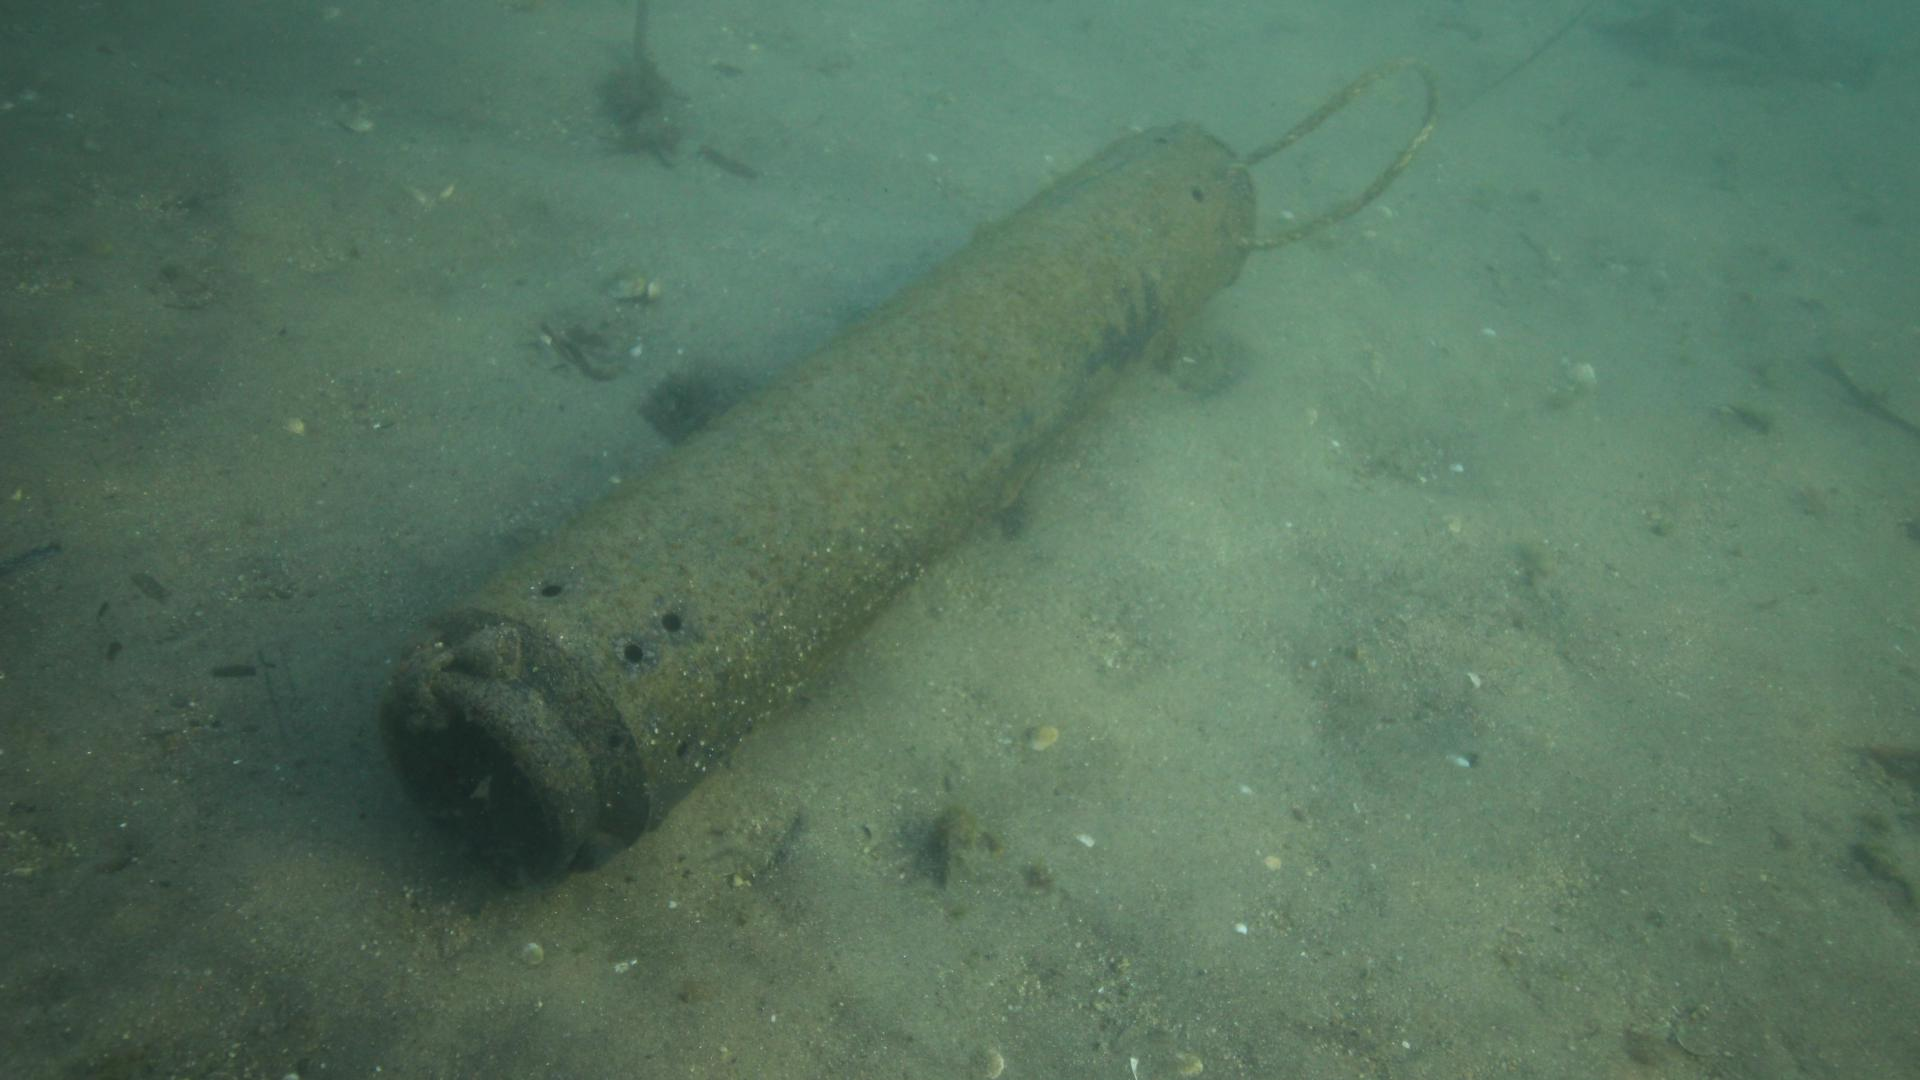eel fish trap: (380, 117, 1255, 887)
rope: (1237, 54, 1440, 248)
